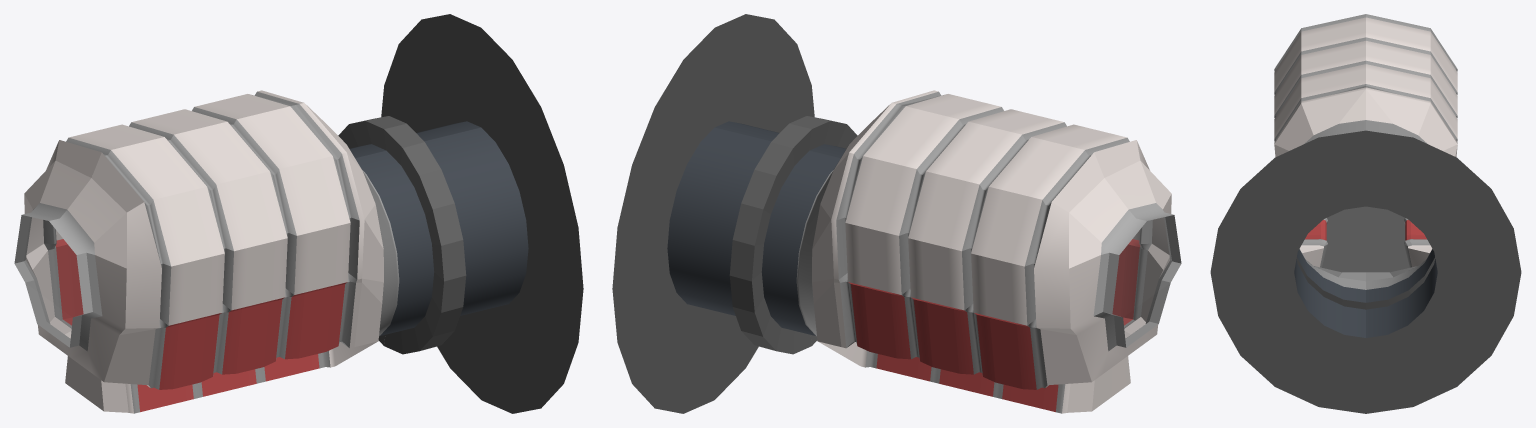
Rendered from EscapePod.fbx.
3 renders of one model, left to right at view 1: azimuth 30°, elevation 25°; view 2: azimuth 150°, elevation 25°; view 3: azimuth 270°, elevation 25°, orthographic. The views are drawn at different scales.
Parts seen in each view (by area): view 1: pasted__polySurface129, pasted__polySurface145; view 2: pasted__polySurface145, pasted__polySurface129; view 3: pasted__polySurface129, pasted__polySurface145.
Boxes of the visible parts, x1,y1,x2,y2 form: pasted__polySurface129: (49, 28, 583, 413); pasted__polySurface145: (14, 14, 481, 399); pasted__polySurface145: (612, 28, 1146, 413); pasted__polySurface129: (714, 14, 1181, 399); pasted__polySurface129: (1210, 14, 1365, 413); pasted__polySurface145: (1366, 14, 1521, 413).
Bounding box in the file's own units: 16.1 × 13.25 × 13.18.
